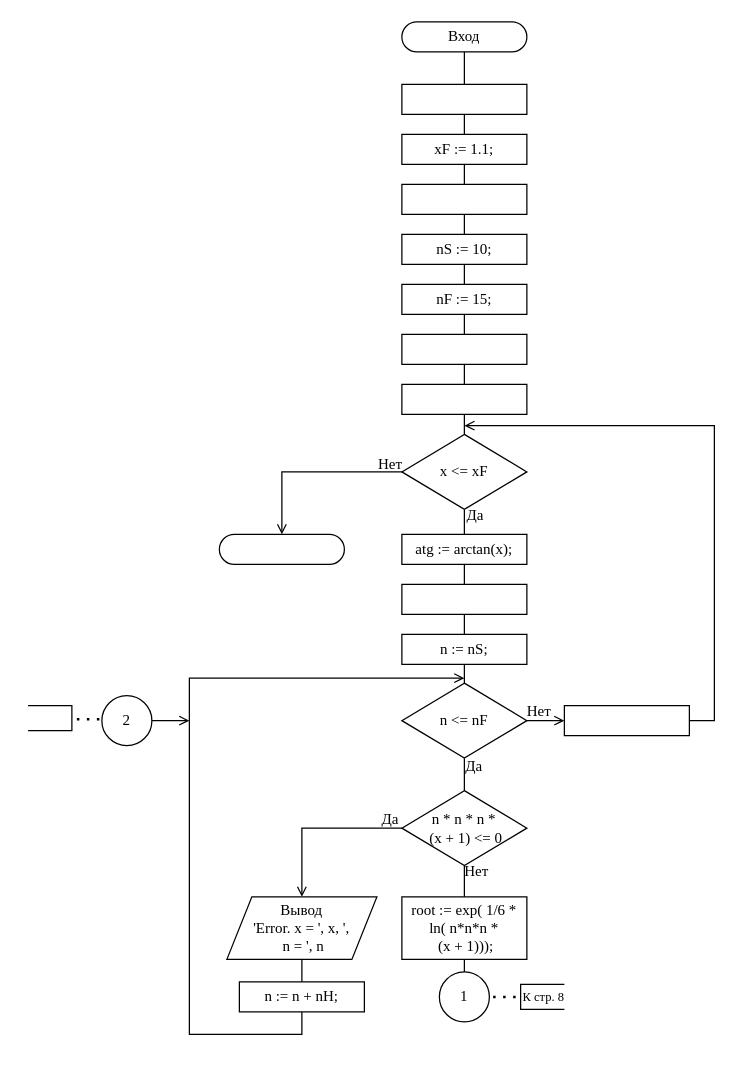
Some shapes in this 746 by 1066 pixel diagram are drawn without their labels. The box of each missing label's shape, as (x1, y1, x2, y2) in pixels:
flag := false;: (401, 583, 527, 614)
nH := 1;: (401, 333, 527, 364)
x := x + xH;: (563, 704, 689, 736)
x := xS;: (401, 383, 527, 414)
xH := 0.1;: (401, 183, 527, 214)
xS := 0.6;: (401, 83, 527, 114)
Выход: (218, 533, 344, 564)
Из стр. 8: (27, 704, 72, 731)
